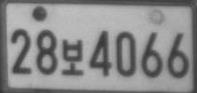0: (115, 30, 137, 77)
2: (10, 27, 32, 74)
4: (89, 30, 112, 77)
6: (141, 31, 163, 77), (167, 32, 189, 78)
8: (35, 28, 58, 75)
보: (61, 38, 83, 76)
